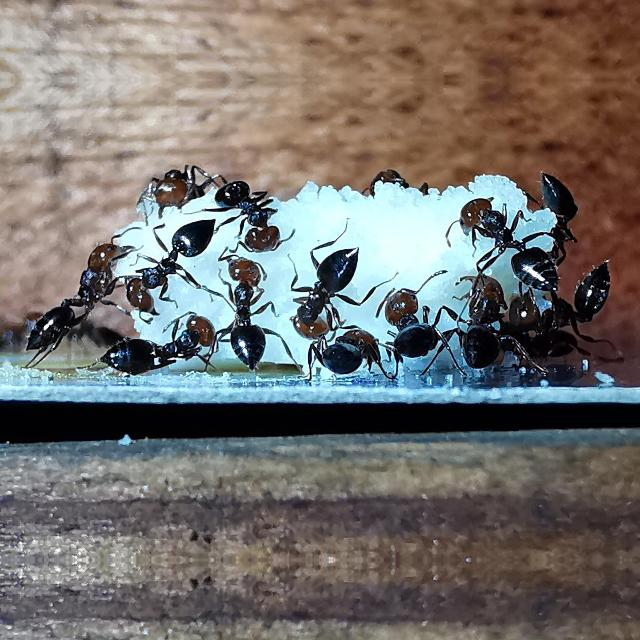Crematogaster: (16, 222, 126, 362), (118, 214, 222, 328), (210, 244, 290, 380), (511, 264, 629, 342), (94, 310, 218, 384), (451, 204, 557, 290), (284, 240, 370, 344), (446, 270, 512, 372), (374, 276, 448, 364), (529, 164, 589, 268), (212, 178, 292, 254), (308, 316, 388, 382), (138, 167, 228, 219)
